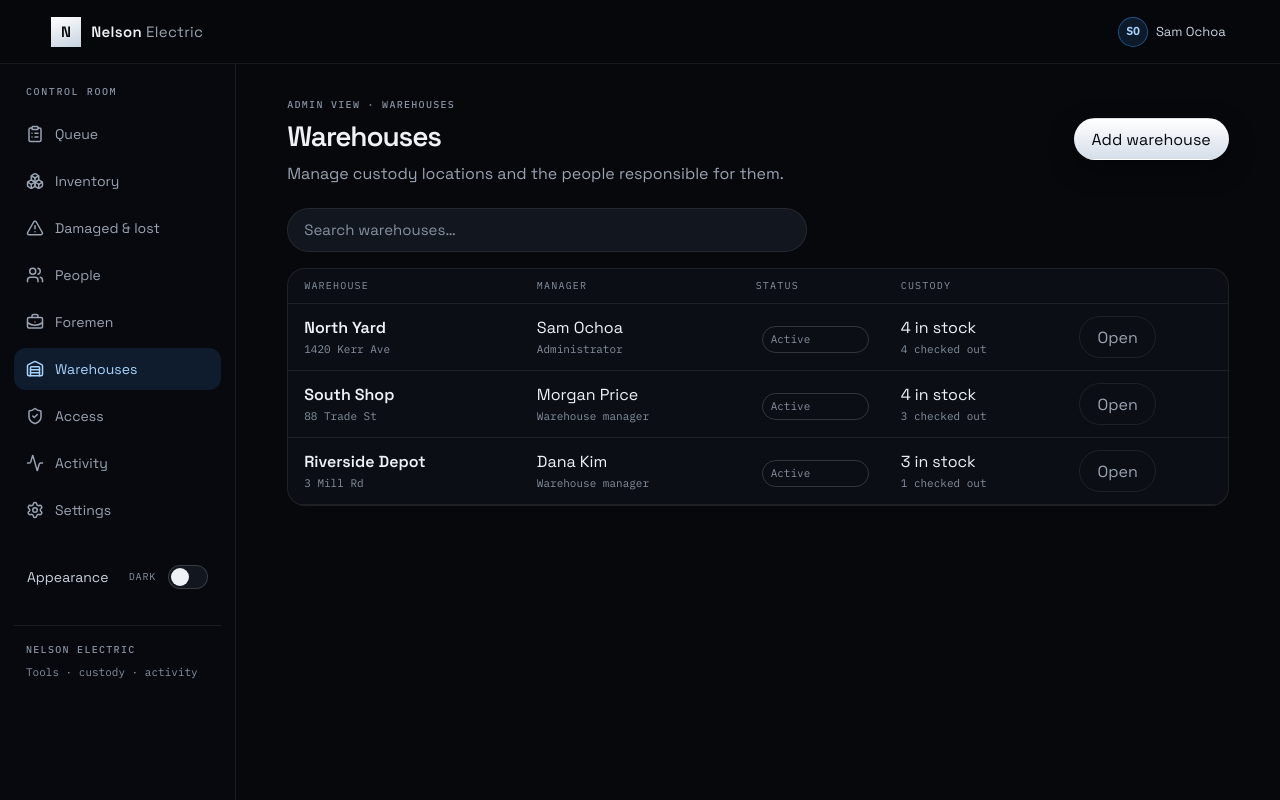
Test: admin command safety › allows only one warehouse update and keeps the draft after a rejection
Check: the text "North Yard" is shown, box 304,317 -> 386,338
Click the button "Open" in the row of "1420 Kerr Ave".
click(1118, 337)  # box 1080,316 -> 1156,358
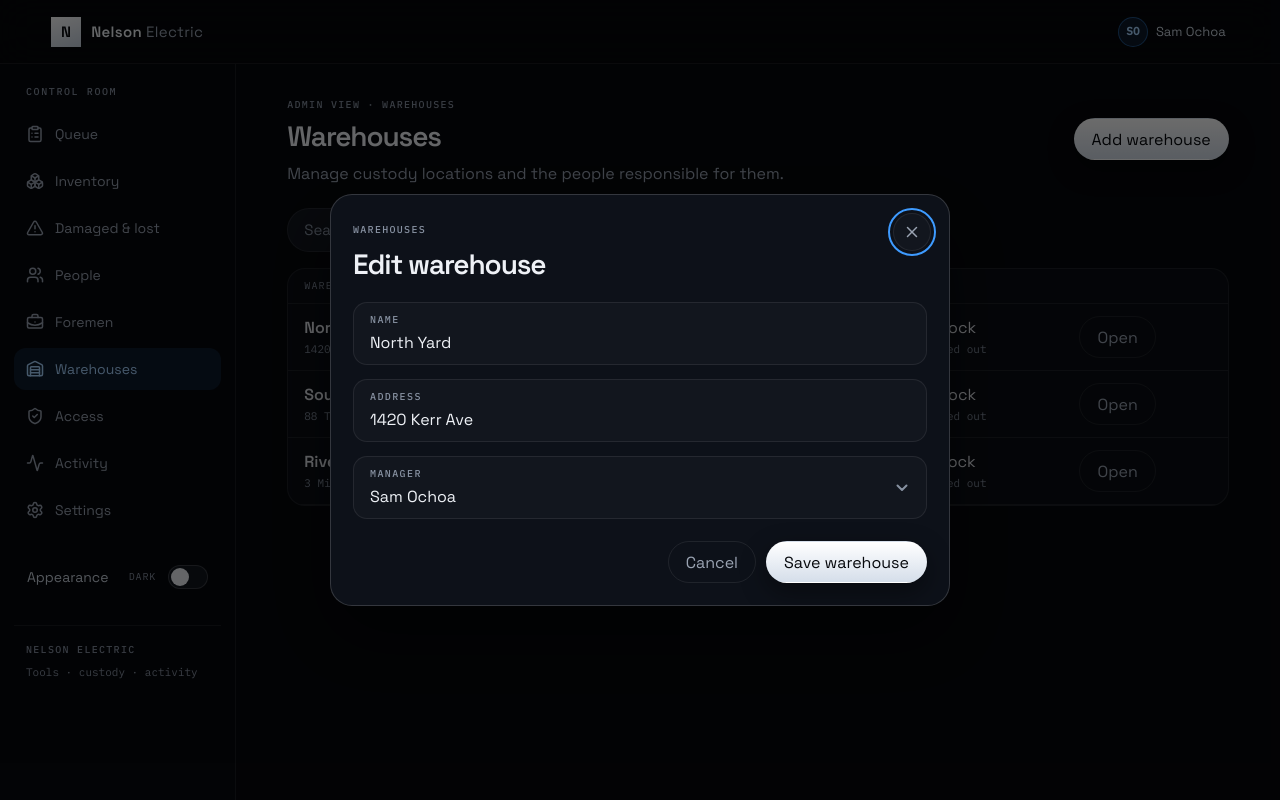
Replace the text in the field labelled "Name" with "North Yard Updated" at x=640, y=342, box 370,333 -> 910,352
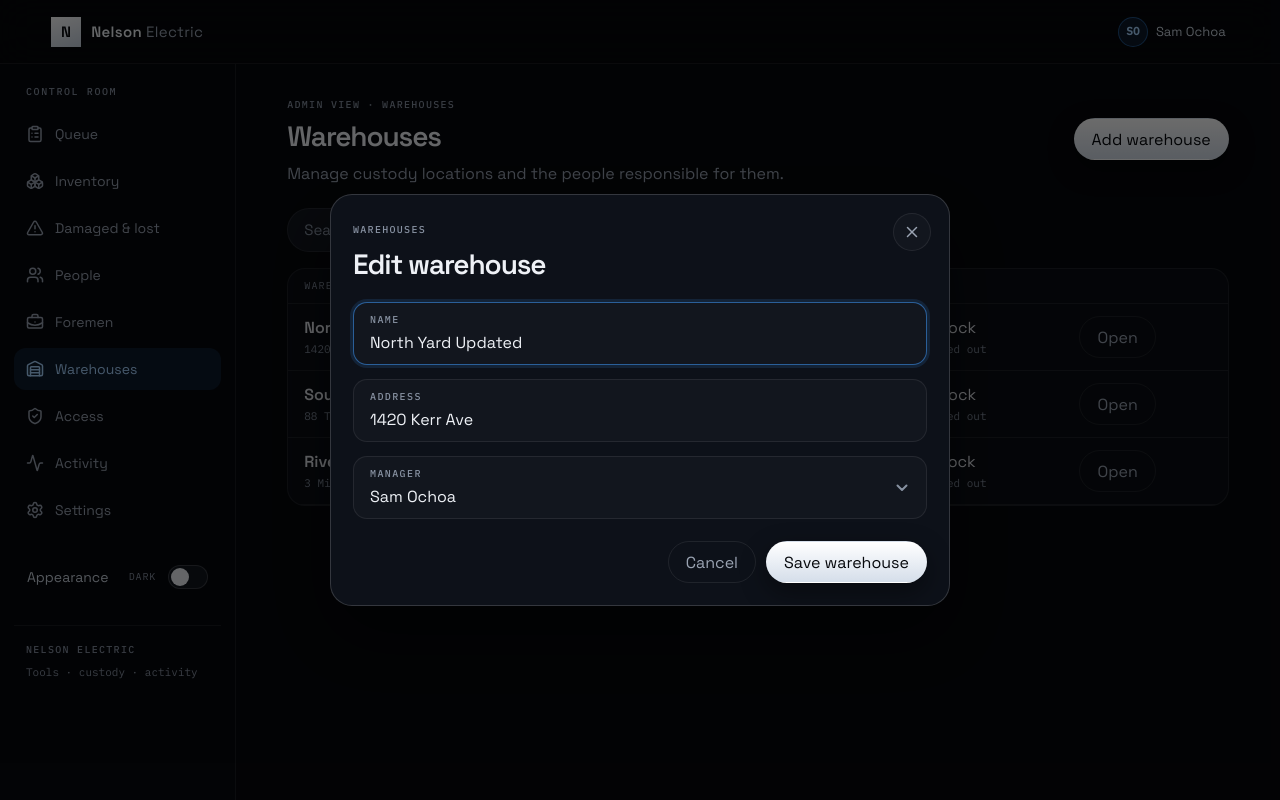
Click the button "Save warehouse".
click(846, 562)  # box 766,541 -> 927,583
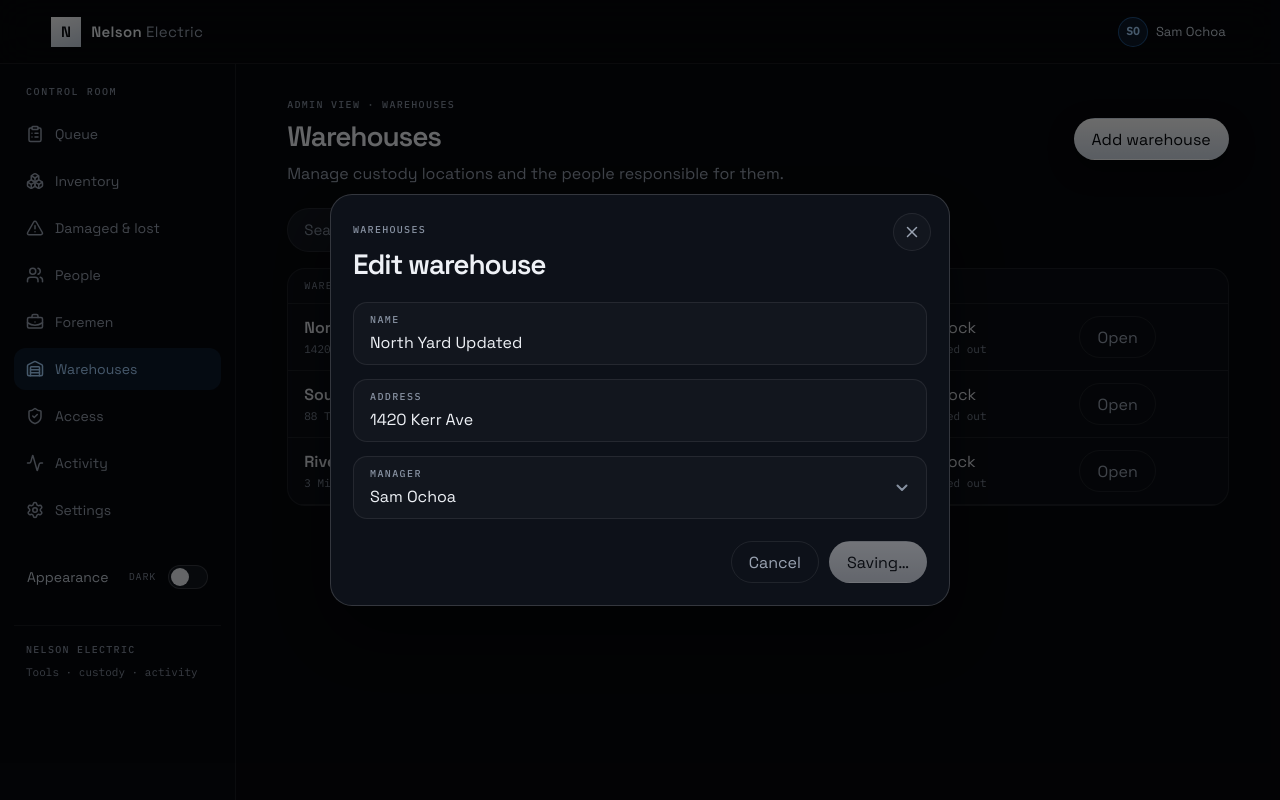
Check: the button named "Save warehouse" is disabled
Click the button named "Save warehouse".
click(878, 562)  # box 829,541 -> 927,583
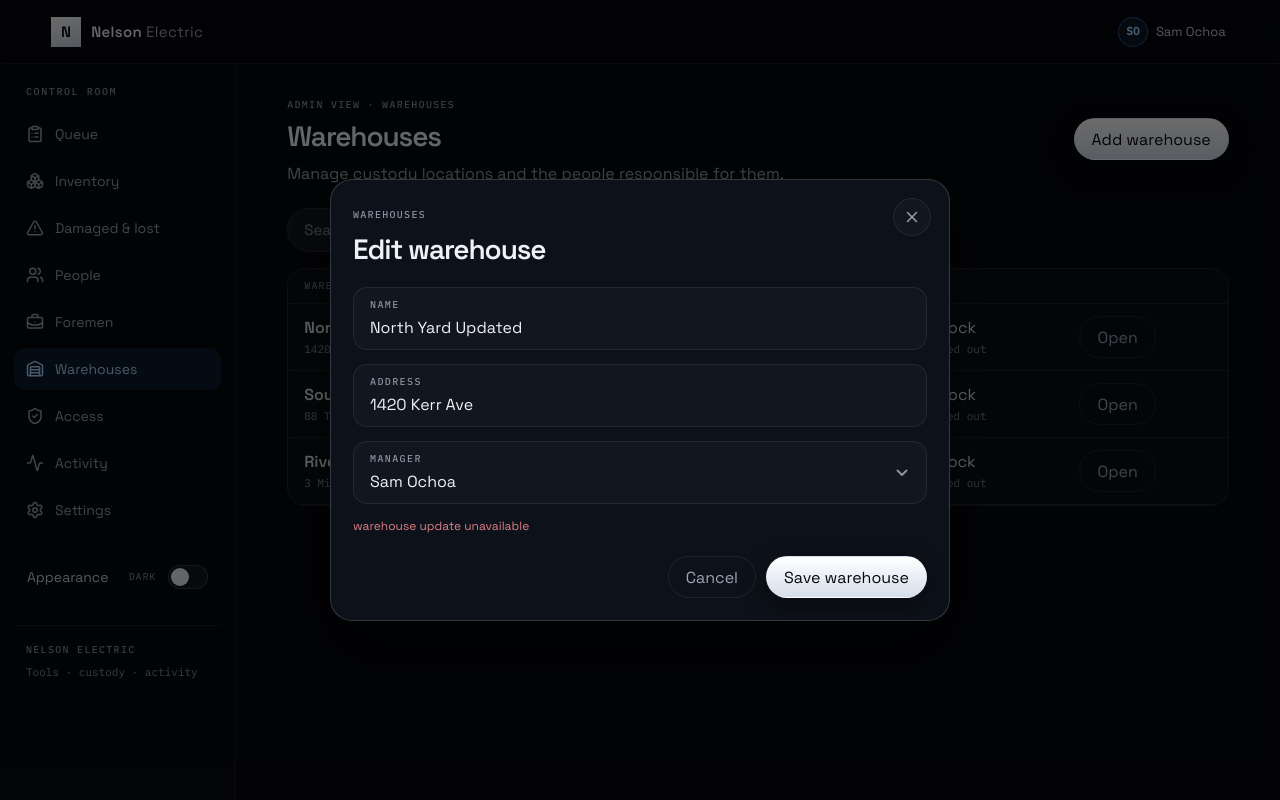
Check: the field labelled "Address" holds "1420 Kerr Ave", box 370,395 -> 910,414
Check: the dropdown named "Manager" reads "Sam Ochoa", box 370,472 -> 910,491
Check: the text "warehouse update unavailable" is shown, box 353,518 -> 529,534
